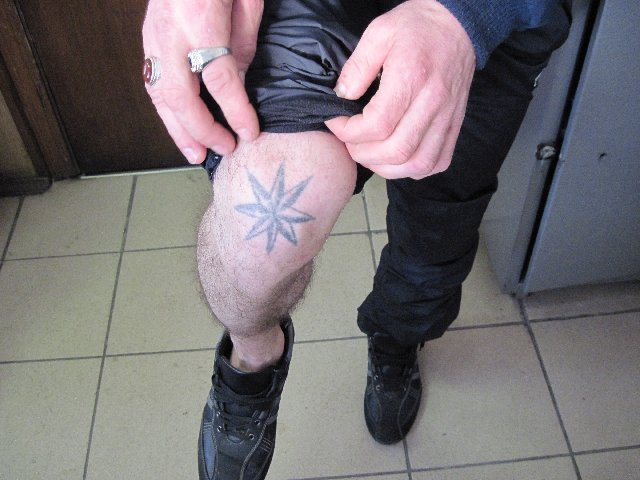tatu4_zvezda: (233, 160, 320, 261)
